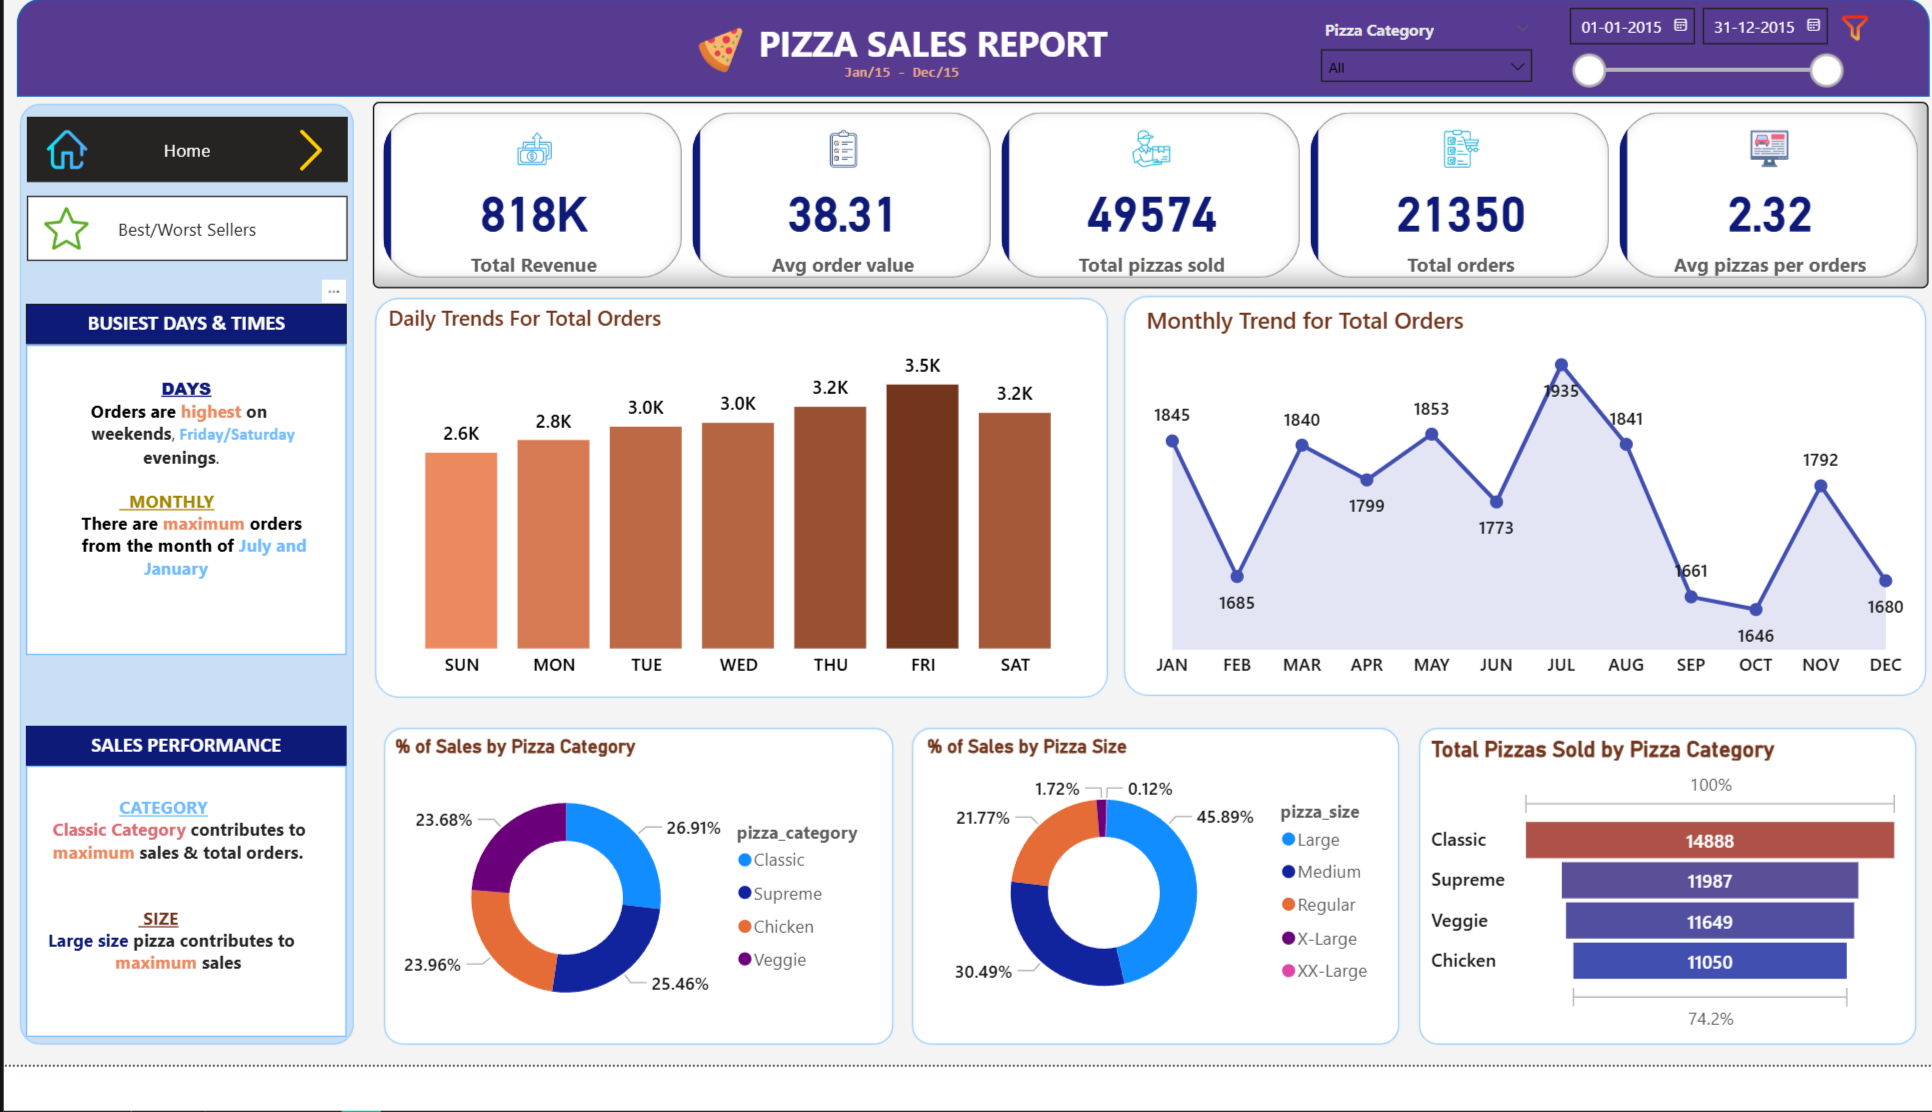

What the dashboard file says about the page in this screenshot:
{"tool":"powerbi","page":{"name":"Home","canvas":[1500,820],"ordinal":0},"visuals":[{"type":"shape","box":[10.8,82.3,259.2,724.6],"z":0},{"type":"cardVisual","fields":{"Data":["_Measures.Total Revenue","_Measures.Avg order value","_Measures.Total pizzas sold","_Measures.Total orders","_Measures.Avg pizzas per orders"]},"box":[283.1,82.3,1193.1,143.1],"z":1000},{"type":"shape","box":[10,3.1,1466.9,75.4],"z":2000},{"type":"textbox","box":[553.1,13.8,326.9,53.8],"z":3000},{"type":"textbox","box":[639.2,43.8,110.8,29.2],"z":4000},{"type":"image","box":[519.2,20,60,44.6],"z":5000},{"type":"shape","box":[283.1,230.8,565.4,310],"z":6000},{"type":"columnChart","title":"Daily Trends For Total Orders","fields":{"Category":["pizza_sales.Order day"],"Y":["_Measures.Total orders"]},"box":[290,236.9,547.7,295.4],"z":7000},{"type":"shape","box":[857.7,229.2,618.5,310],"z":8000},{"type":"areaChart","title":"Monthly Trend for Total Orders ","fields":{"Y":["_Measures.Total orders"],"Category":["pizza_sales.Order Month"]},"box":[871.5,236.9,596.9,295.4],"z":9000},{"type":"shape","box":[290,560.8,393.8,246.2],"z":10000},{"type":"shape","box":[694.6,560.8,376.9,246.2],"z":11000},{"type":"shape","box":[1083.8,560.8,384.6,246.2],"z":12000},{"type":"donutChart","title":"% of Sales by Pizza Category","fields":{"Category":["pizza_sales.pizza_category"],"Y":["_Measures.Total Revenue"]},"box":[295.4,568.5,380.8,231.5],"z":13000},{"type":"donutChart","title":"% of Sales by Pizza Size","fields":{"Y":["_Measures.Total Revenue"],"Category":["pizza_sales.pizza_size"]},"box":[703.1,568.5,360.8,223.8],"z":14000},{"type":"funnel","title":"Total Pizzas Sold by Pizza Category","fields":{"Category":["pizza_sales.pizza_category"],"Y":["_Measures.Total pizzas sold"]},"box":[1090,568.5,370,231.5],"z":15000},{"type":"textbox","box":[16.9,236.9,246.2,30.8],"z":16000},{"type":"textbox","box":[16.9,268.5,246.2,237.7],"z":17000},{"type":"textbox","box":[16.9,560.8,246.2,30.8],"z":18000},{"type":"textbox","box":[16.9,591.5,246.2,208.5],"z":19000},{"type":"slicer","fields":{"Values":["pizza_sales.pizza_category"]},"box":[1000,13.8,182.3,60],"z":20000},{"type":"pageNavigator","box":[17.7,93.8,246.2,50],"z":21000},{"type":"pageNavigator","box":[17.7,153.8,246.2,50],"z":22000},{"type":"image","box":[208.5,98.5,54.6,41.5],"z":23000},{"type":"slicer","fields":{"Values":["pizza_sales.order_date"]},"box":[1187.7,0,231.5,78.5],"z":24000},{"type":"image","box":[23.1,98.5,50,40.8],"z":25000},{"type":"image","box":[1395.4,6.2,47.7,37.7],"z":26000},{"type":"image","box":[23.1,156.9,50.8,43.8],"z":27000}]}

Visuals, with their boxes on the page's 1500x820 design canvas (x1, y1, x2, y2). These are canvas units, not pixel positions in the 1932x1112 screenshot, which may show the page scaled, cropped or inside an application window:
shape: left=11, top=82, right=270, bottom=807
cardVisual - _Measures.Total Revenue x _Measures.Avg order value: left=283, top=82, right=1476, bottom=225
shape: left=10, top=3, right=1477, bottom=78
textbox: left=553, top=14, right=880, bottom=68
textbox: left=639, top=44, right=750, bottom=73
image: left=519, top=20, right=579, bottom=65
shape: left=283, top=231, right=848, bottom=541
"Daily Trends For Total Orders" columnChart: left=290, top=237, right=838, bottom=532
shape: left=858, top=229, right=1476, bottom=539
"Monthly Trend for Total Orders " areaChart: left=872, top=237, right=1468, bottom=532
shape: left=290, top=561, right=684, bottom=807
shape: left=695, top=561, right=1072, bottom=807
shape: left=1084, top=561, right=1468, bottom=807
"% of Sales by Pizza Category" donutChart: left=295, top=568, right=676, bottom=800
"% of Sales by Pizza Size" donutChart: left=703, top=568, right=1064, bottom=792
"Total Pizzas Sold by Pizza Category" funnel: left=1090, top=568, right=1460, bottom=800
textbox: left=17, top=237, right=263, bottom=268
textbox: left=17, top=268, right=263, bottom=506
textbox: left=17, top=561, right=263, bottom=592
textbox: left=17, top=592, right=263, bottom=800
slicer - pizza_sales.pizza_category: left=1000, top=14, right=1182, bottom=74
pageNavigator: left=18, top=94, right=264, bottom=144
pageNavigator: left=18, top=154, right=264, bottom=204
image: left=208, top=98, right=263, bottom=140
slicer - pizza_sales.order_date: left=1188, top=0, right=1419, bottom=78
image: left=23, top=98, right=73, bottom=139
image: left=1395, top=6, right=1443, bottom=44
image: left=23, top=157, right=74, bottom=201
